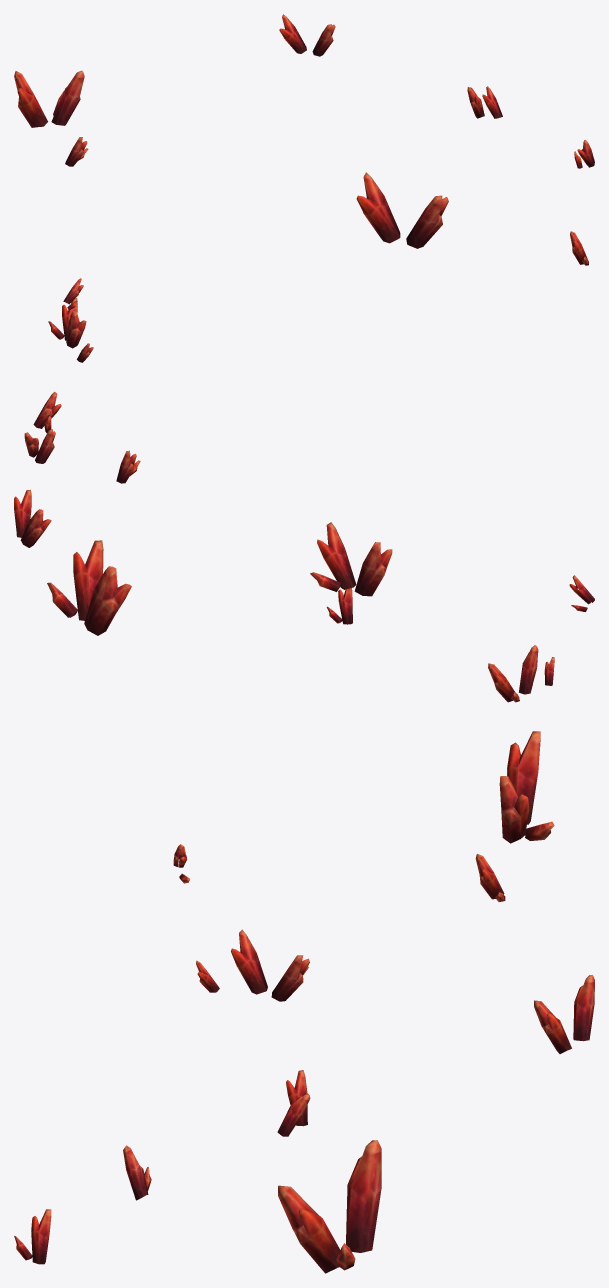
Rendered from area_01_huoshuijing.FBX.
3 views of the same model, one above another, from view 1: azimuth 30°, elevation 25°; view 2: azimuth 150°, elevation 25°; view 3: azimuth 270°, elevation 25° (orthographic). The views are drawn at different scales.
Visible parts, largest first — view 1: area_01_huoshuijing; view 2: area_01_huoshuijing; view 3: area_01_huoshuijing.
Part boxes in pixels (x1,y1,x2,y2): area_01_huoshuijing: (14, 14, 594, 362); area_01_huoshuijing: (14, 391, 594, 702); area_01_huoshuijing: (14, 731, 594, 1273).
Bounding box in the file's own units: 3704 × 1395 × 2437.
